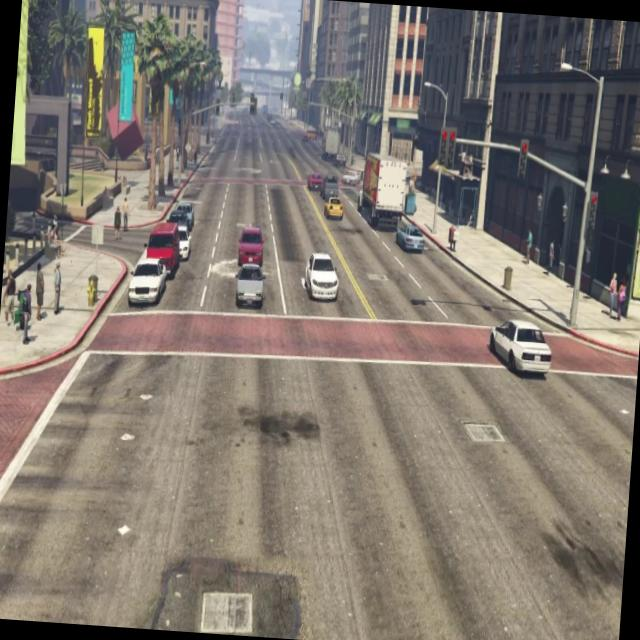Red-Signal: (435, 118, 460, 178), (512, 132, 533, 184), (585, 186, 601, 237)
